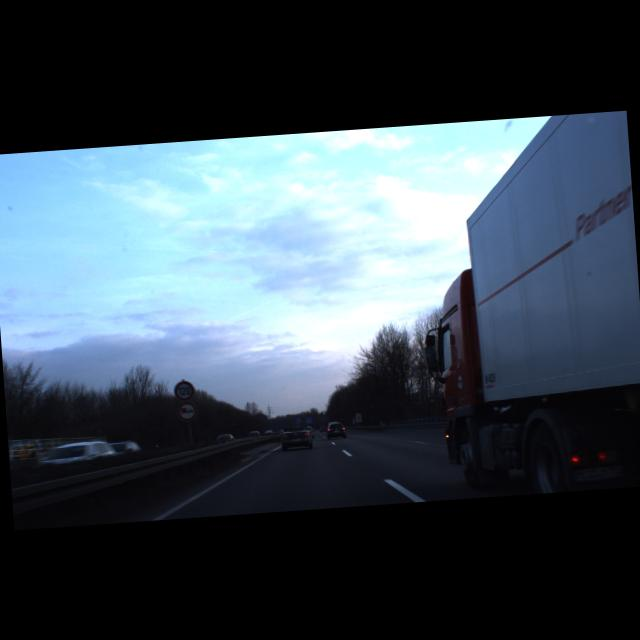prohibitory: (172, 379, 195, 402), (175, 400, 197, 422)
